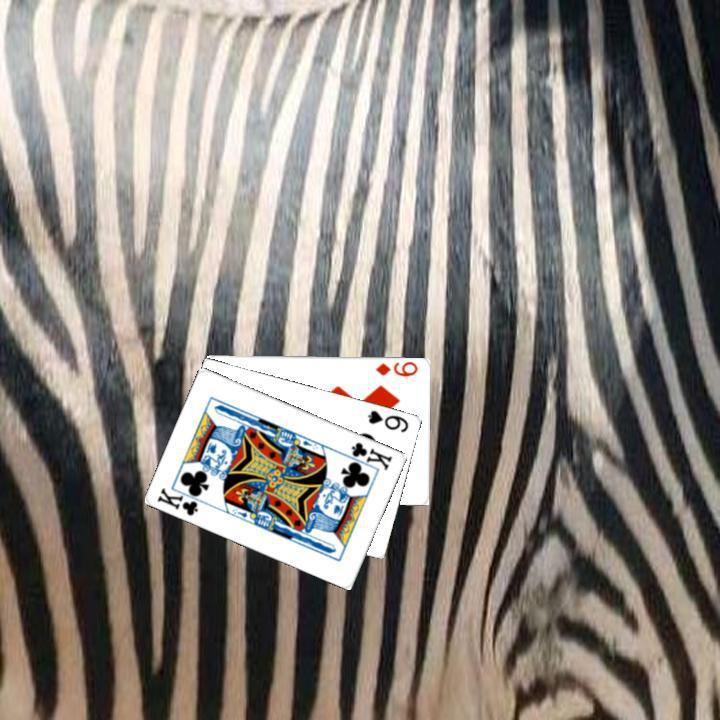6: (363, 405, 411, 434)
9: (372, 358, 420, 378)
K: (153, 482, 209, 518), (339, 438, 394, 473)
